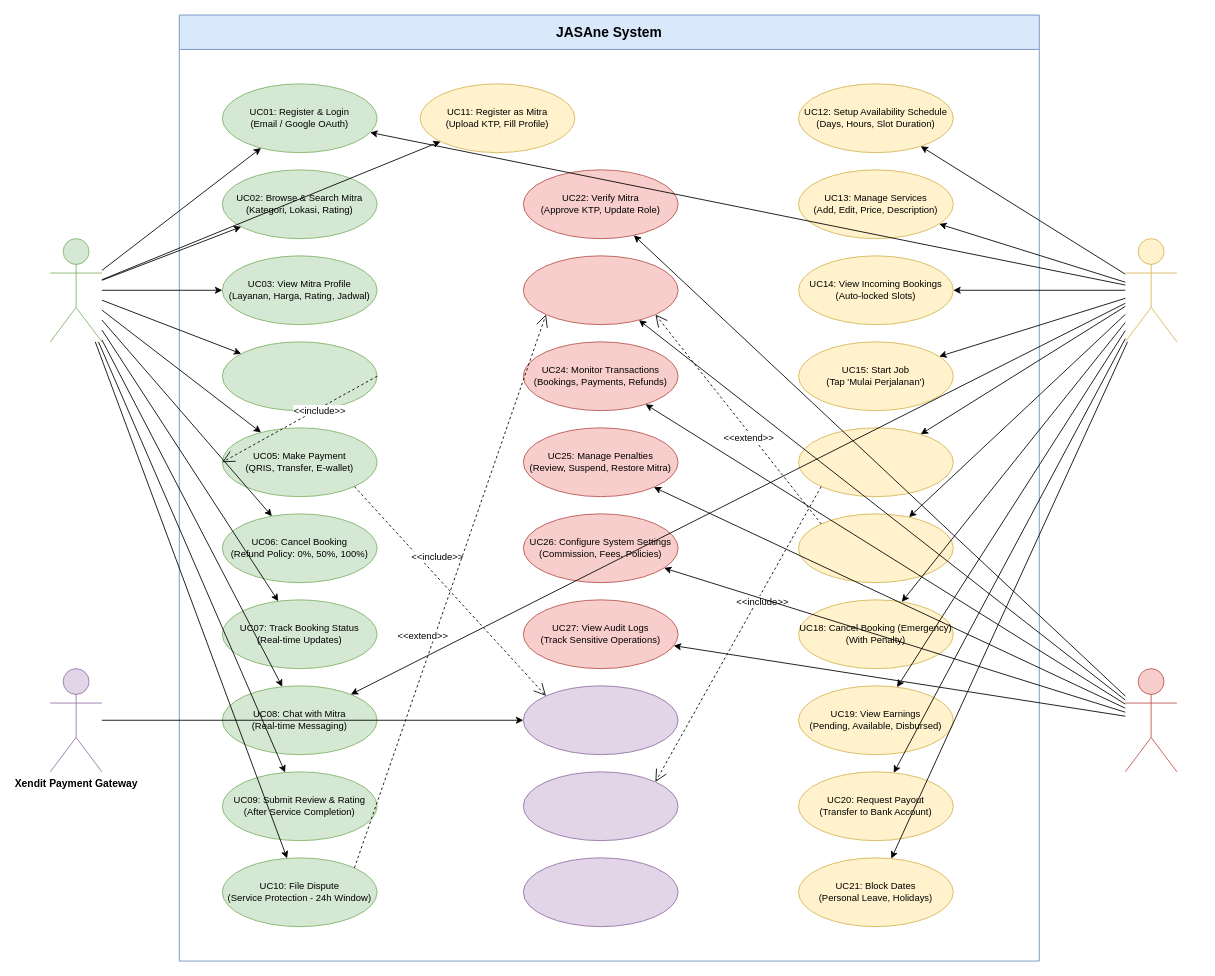
This 1215x976 diagram has some shape labels left out. The centre of each missing label's shape, as x and y in pixels:
"Admin" goes at pixel 1150 720.
"Mitra/Penyedia Jasa" goes at pixel 1150 290.
"UC04: Create Booking (Pilih Layanan, Slot, Alamat)" goes at pixel 299 376.
"UC16: Complete Job (Upload Proof Photo)" goes at pixel 875 462.
"UC17: Report Customer No-Show (Photo + GPS Proof)" goes at pixel 875 548.
"UC23: Handle Disputes (Mediation, Refund Decision)" goes at pixel 600 290.
"UC28: Process Payment Webhook (Xendit Callback)" goes at pixel 600 720.
"UC29: Auto-Release Escrow (24h After Completion)" goes at pixel 600 806.
"UC30: Send Notifications (Push, In-app, Email)" goes at pixel 600 892.
"User/Pelanggan" goes at pixel 75 290.
